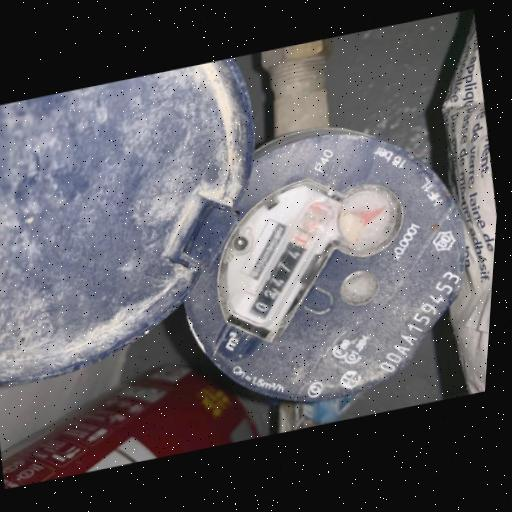0: (248, 293, 275, 319)
1: (287, 225, 315, 252)
2: (255, 281, 282, 306)
4: (279, 240, 306, 267), (262, 269, 288, 295)
7: (271, 253, 299, 279)
border_water_meter_number: (222, 188, 358, 334)
